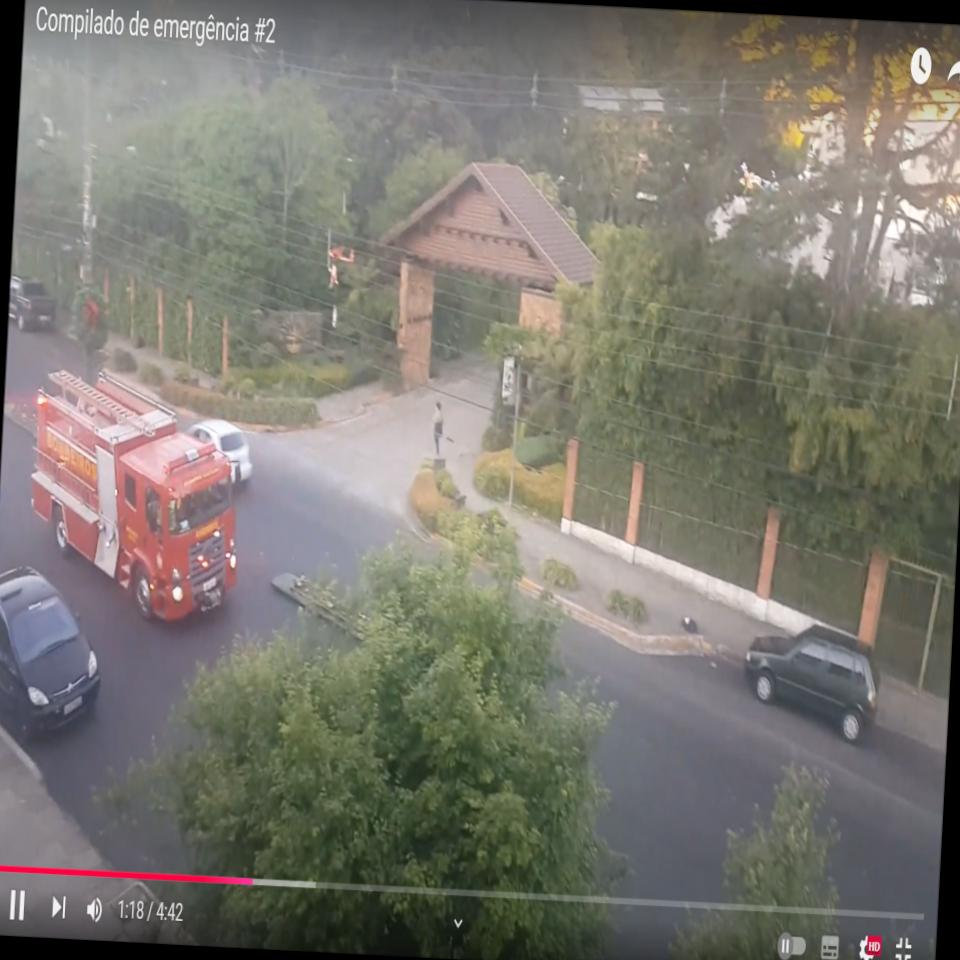viatura: (22, 364, 250, 630)
